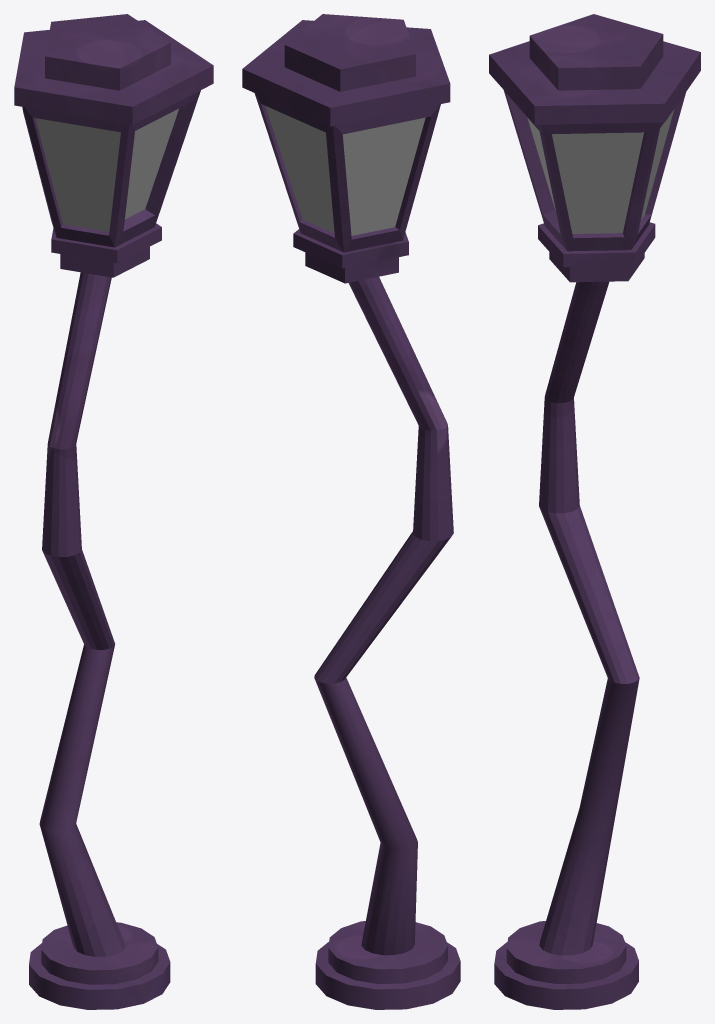
Rendered from lampadaire.fbx.
3 renders of one model, left to right at view 1: azimuth 30°, elevation 25°; view 2: azimuth 150°, elevation 25°; view 3: azimuth 270°, elevation 25°, orthographic. The views are drawn at different scales.
Parts seen in each view (by area): view 1: pCylinder24; view 2: pCylinder24; view 3: pCylinder24.
Boxes of the visible parts, x1,y1,x2,y2 form: pCylinder24: [14, 14, 213, 1009]; pCylinder24: [242, 14, 460, 1009]; pCylinder24: [489, 14, 700, 1009].
Size of the model in its own units: 2.79 by 14.32 by 2.91.
